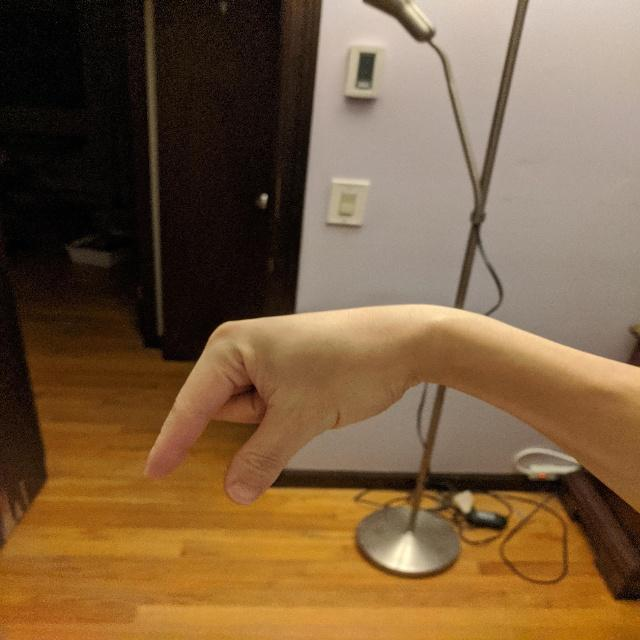Q: (135, 297, 426, 510)
